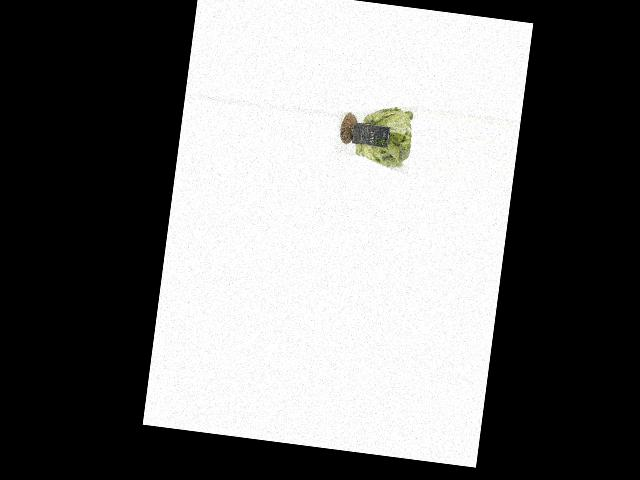lettuce: (331, 97, 416, 172)
